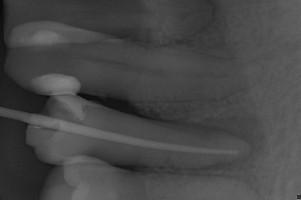Furcation Involvement: (195, 114, 271, 172)
